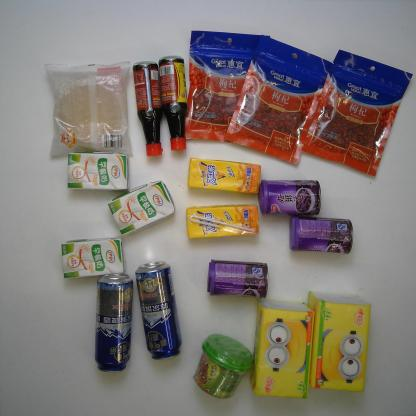Alcohol: (134, 260, 184, 362), (92, 271, 134, 375)
Canned Food: (204, 258, 271, 300), (287, 217, 355, 256), (258, 178, 323, 217)
Dessert: (41, 58, 136, 160)
Dried Fruit: (302, 46, 414, 178), (222, 34, 331, 166), (184, 28, 271, 144)
Drink: (184, 156, 263, 196), (184, 203, 262, 241)
Instant Drink: (190, 332, 254, 401)
Milk: (106, 178, 178, 237), (58, 237, 126, 281), (65, 151, 131, 193)
Seasoner: (130, 60, 165, 159), (158, 54, 188, 152)
Tissue: (309, 291, 374, 395), (250, 299, 314, 400)
